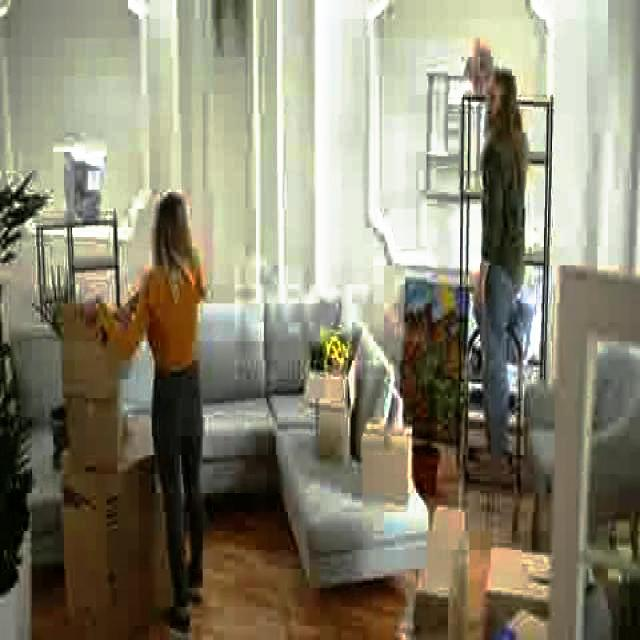Box: (65, 458, 151, 628), (414, 502, 458, 618), (61, 315, 115, 398), (306, 374, 354, 458), (489, 547, 554, 607), (357, 426, 412, 494), (64, 402, 122, 462)
